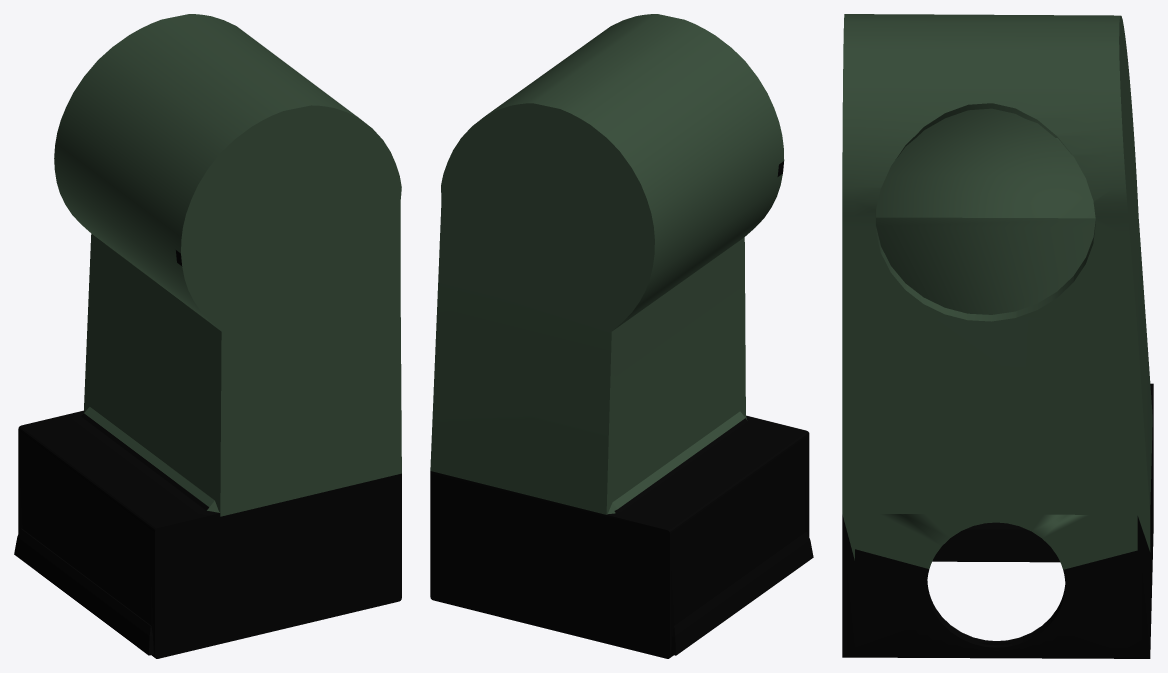
The model's file is piernaizq.obj.
3 renders of one model, left to right at view 1: azimuth 30°, elevation 25°; view 2: azimuth 150°, elevation 25°; view 3: azimuth 270°, elevation 25°, orthographic. The views are drawn at different scales.
Visible parts, largest first — view 1: kevin:Plane003; view 2: kevin:Plane003; view 3: kevin:Plane003.
Part boxes in pixels (x1=…): kevin:Plane003: x1=14, y1=14, x2=401, y2=658; kevin:Plane003: x1=430, y1=14, x2=813, y2=658; kevin:Plane003: x1=842, y1=14, x2=1153, y2=658.
Bounding box in the file's own units: 0.6034 × 1.18 × 0.5806.
Materials: 3 (2 with a texture image).
